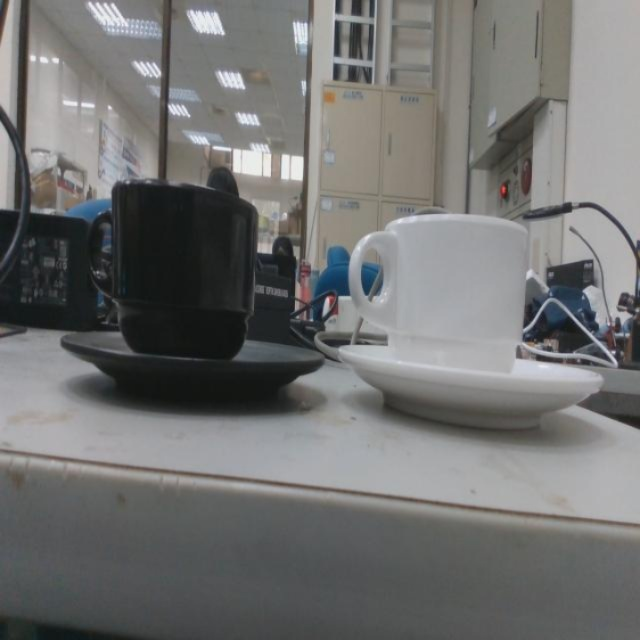black: (57, 173, 328, 412)
white: (338, 210, 606, 434)
